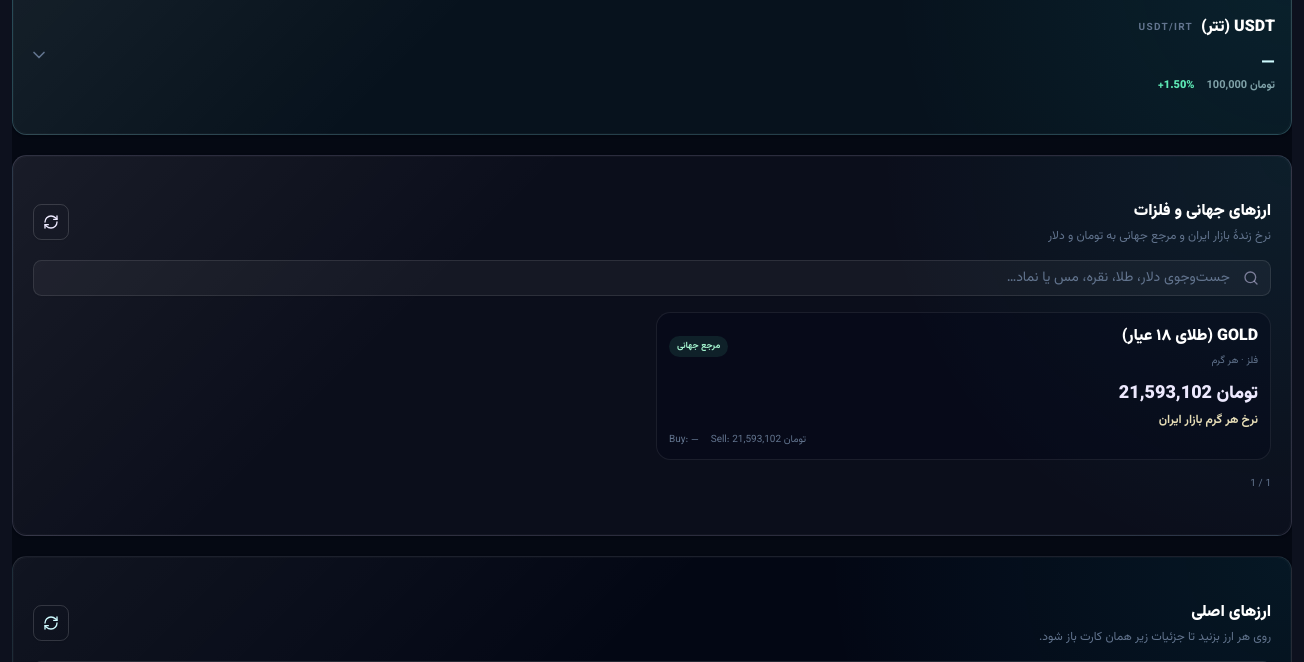
Test: ClassicCryptoMarket › shows only the local Iranian per-gram price for gold
(page scrolled)
Check: the element with test id "macro-market-board" shows "نرخ هر گرم بازار ایران", box [657,313,1270,459]
Click the text "GOLD (طلای ۱۸ عیار)".
click(1190, 337)  # box [1122,325,1258,349]
(page scrolled)
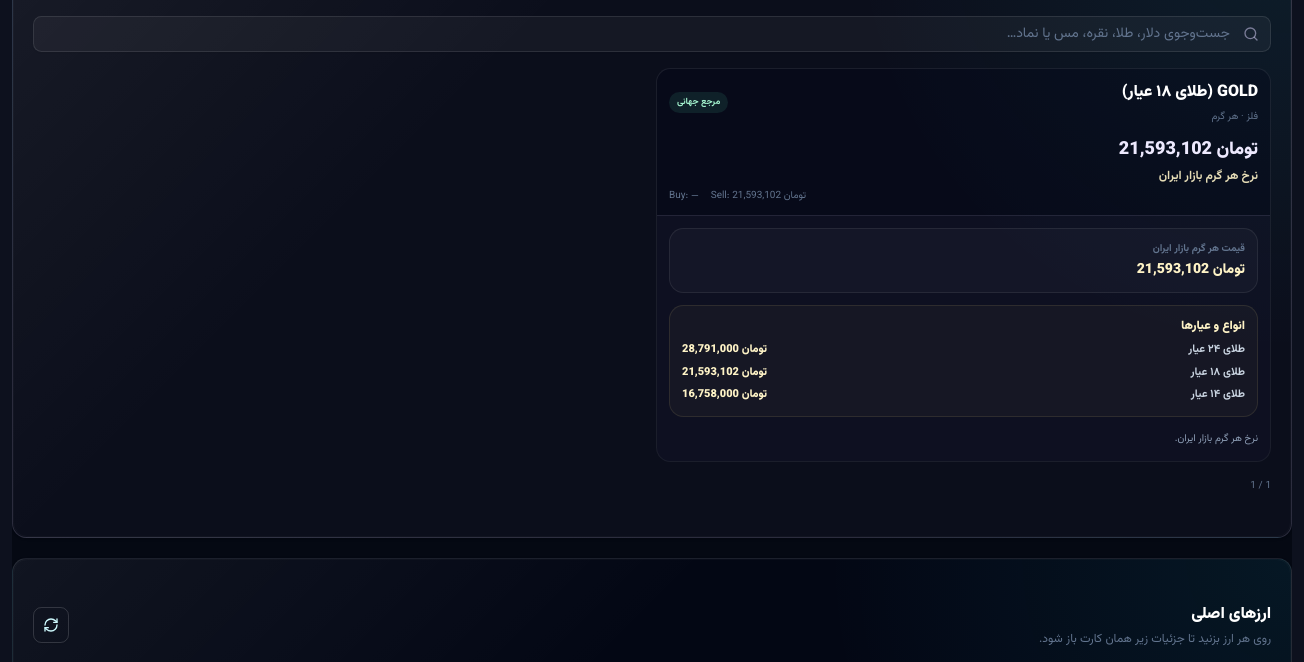
Check: the element with test id "macro-detail-panel" shows "قیمت هر گرم بازار ایران", box [1153,241,1245,256]
Check: the element with test id "macro-detail-panel" shows "انواع و عیارها", box [1181,317,1245,335]
Check: the element with test id "macro-detail-panel" shows "طلای ۲۴ عیار", box [1188,341,1245,358]
